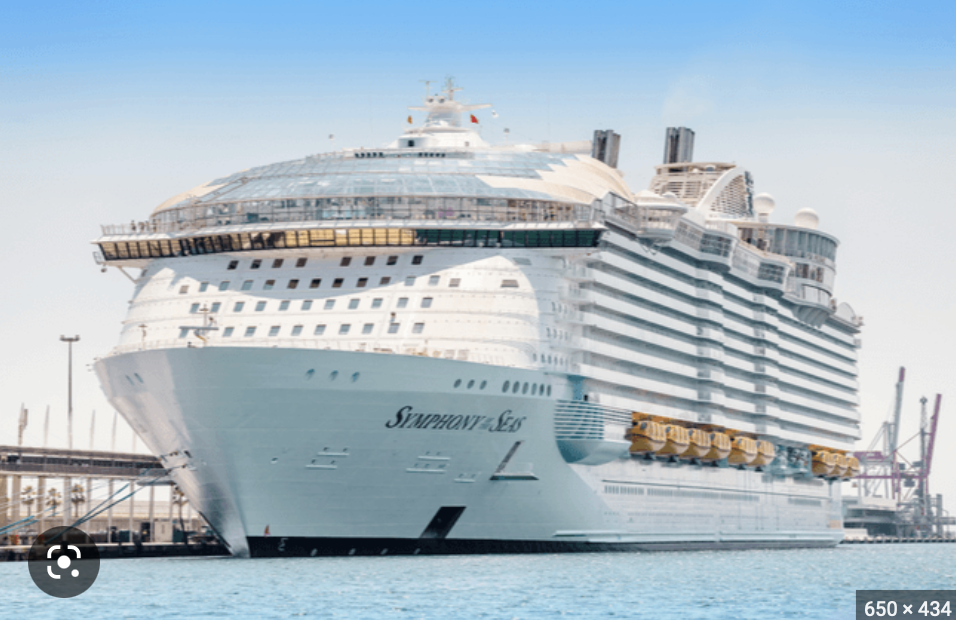ship: (73, 122, 882, 555)
